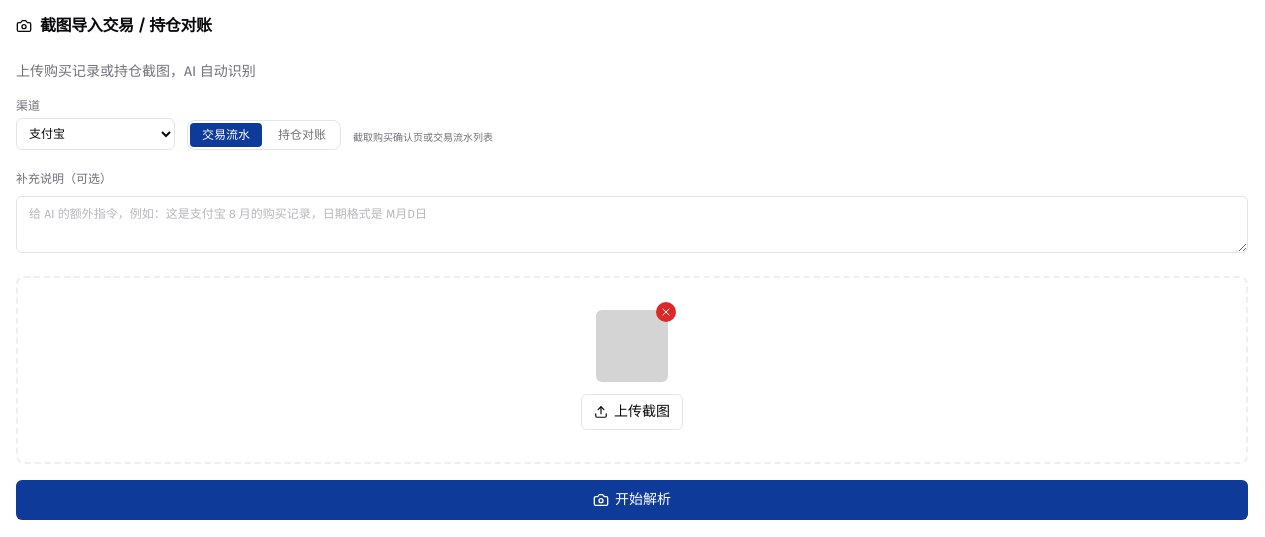
it: ScreenshotImportPanel 导入完整性校验 › 用户补全残缺行后重新计入有效数并可导入
Earlier steps of the test are not shown.
Click the button "开始解析".
click(632, 500)  # box x1=16 y1=480 x2=1248 y2=520
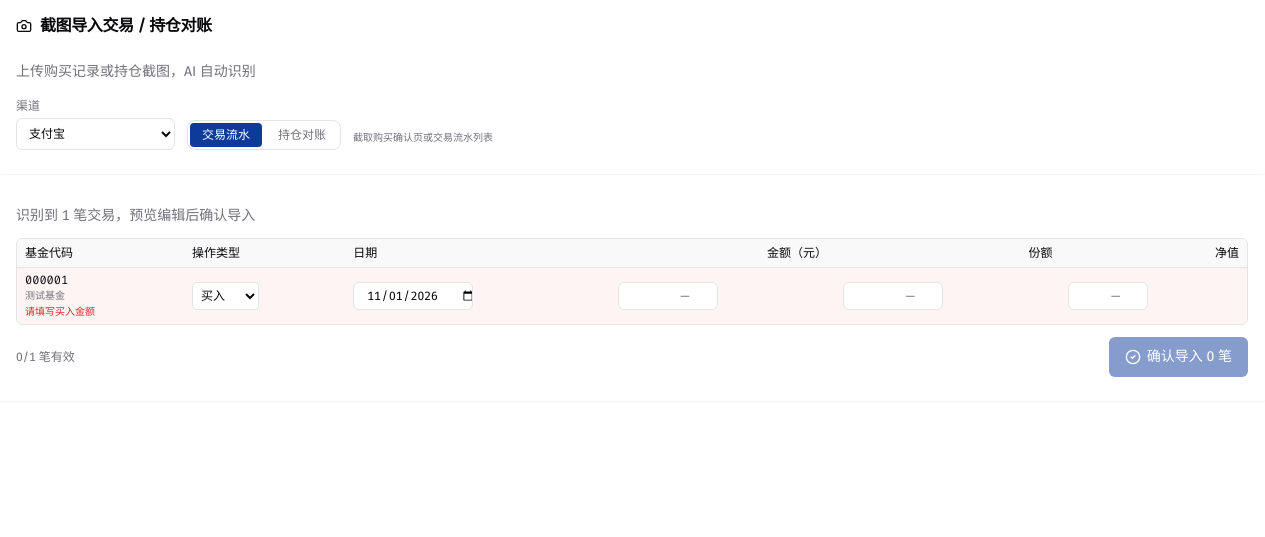
Result: the text "识别到 1 笔交易，预览编辑后确认导入" is shown at x1=16 y1=207 x2=255 y2=224
Result: the text "0/1 笔有效" is shown at x1=16 y1=349 x2=75 y2=365
Type "800" into the 1st number field with placeholder "—".
click(668, 296); type("800")  # box x1=618 y1=282 x2=718 y2=310
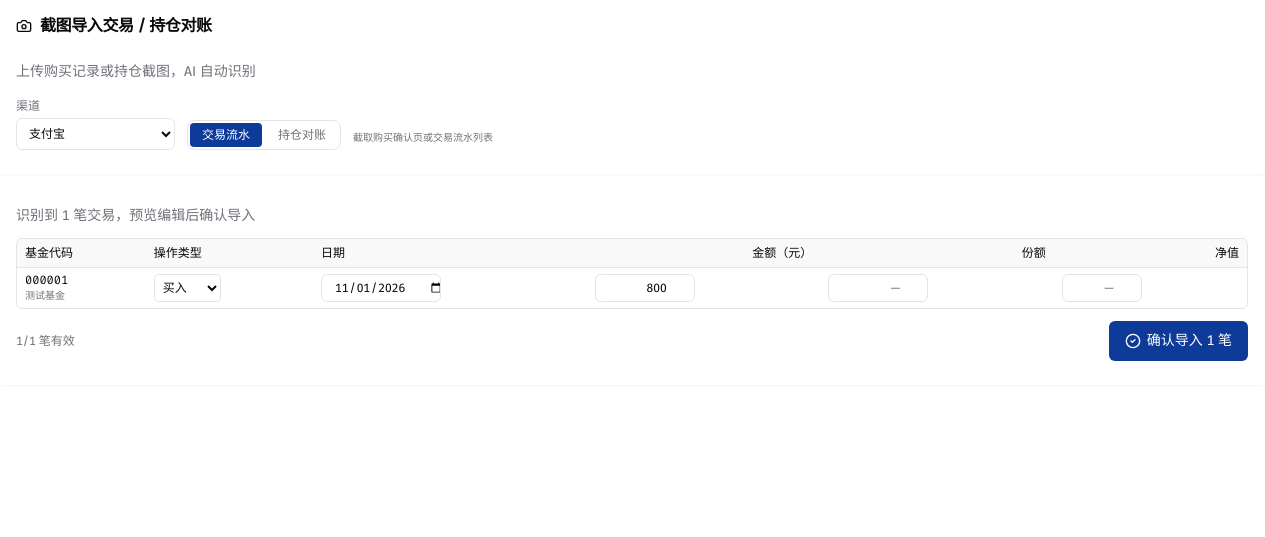
Result: the text "1/1 笔有效" is shown at x1=16 y1=333 x2=75 y2=349
Result: the text "请填写买入金额" is gone
